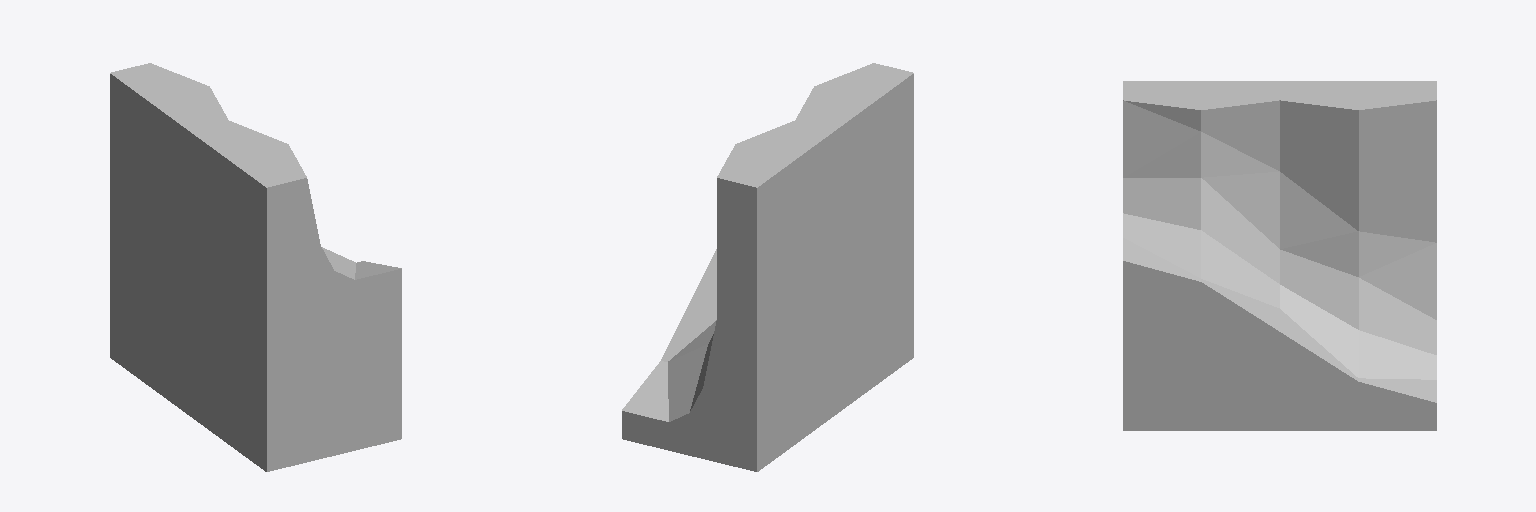
The model's file is Cliff_Base_Hill_Sharp.obj.
3 renders of one model, left to right at view 1: azimuth 30°, elevation 25°; view 2: azimuth 150°, elevation 25°; view 3: azimuth 270°, elevation 25°, orthographic.
Visible parts, largest first — view 1: object1; view 2: object1; view 3: object1.
Boxes of the visible parts, box(x1,y1,x2,y2) form: object1: box(110, 63, 401, 471); object1: box(622, 63, 913, 471); object1: box(1123, 81, 1436, 430).
Size of the model in its own units: 1 by 2 by 2.